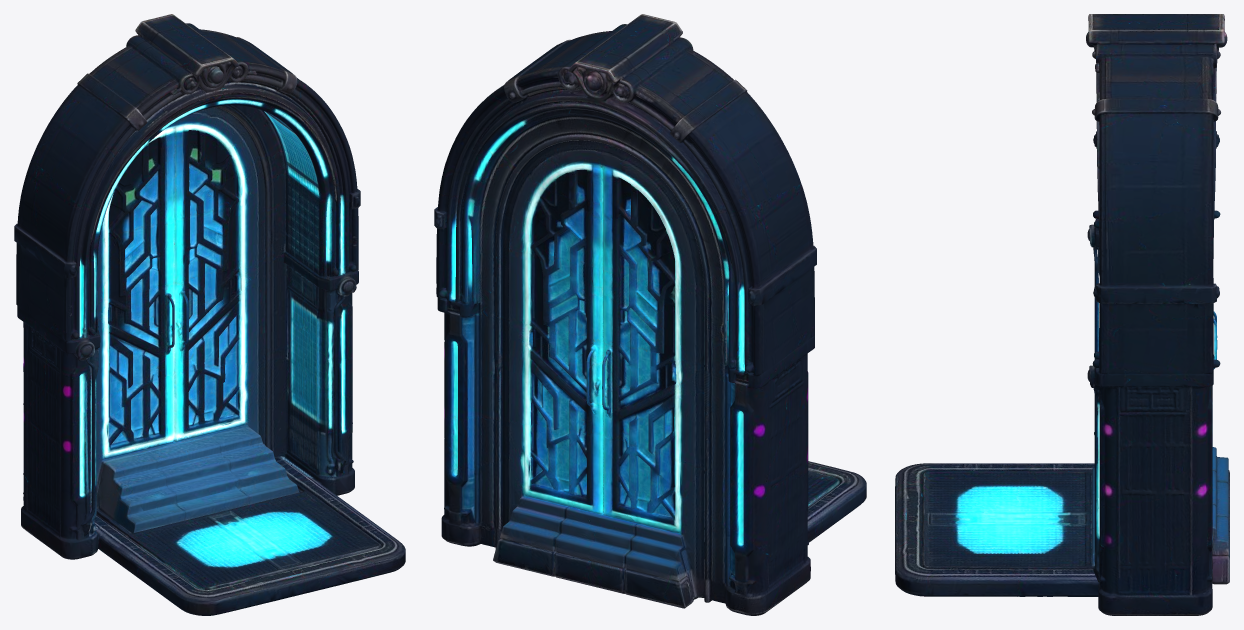
The model's file is city_portal_arch_draco.glb.
The picture shows the model from 3 angles, left to right: view 1: azimuth 30°, elevation 25°; view 2: azimuth 150°, elevation 25°; view 3: azimuth 270°, elevation 25°; orthographic projection. The views are drawn at different scales.
Size of the model in its own units: 1.26 by 1.9 by 1.12.
1 material, 1 textured.
